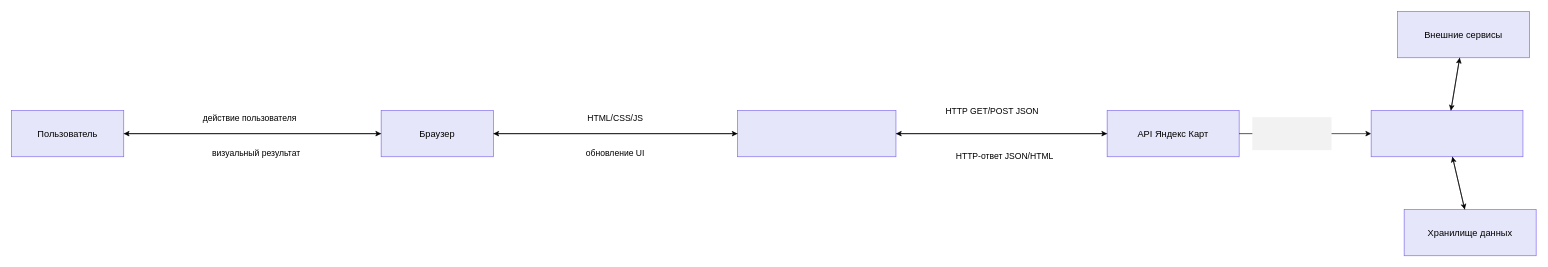
Some shapes in this 1548 by 267 pixel diagram are drawn without their labels. The shapes that lost their labels are listed below. From the top down, each one's box as (x1, y1, x2, y2) in pixels, then its label:
(737, 110, 896, 157): Frontend (UI, карта, JS)
(1252, 117, 1331, 150): API-вызов
(1370, 110, 1523, 157): Backend (логика сервиса)
